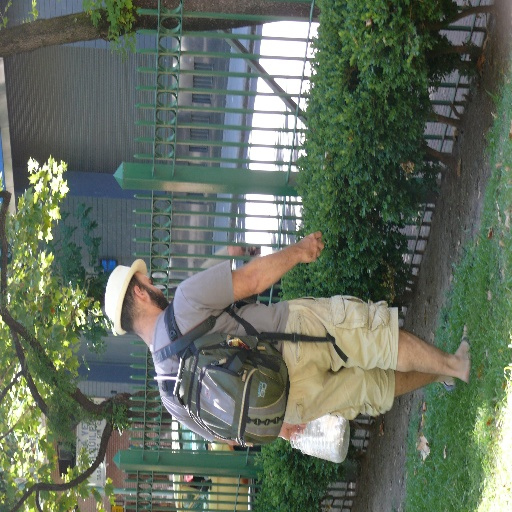hand: (300, 231, 324, 262), (280, 423, 307, 446)
